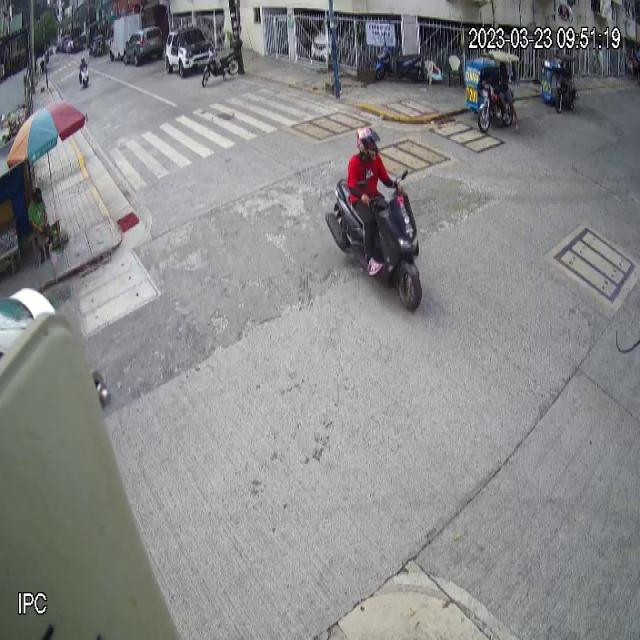Motorcycle: (325, 168, 423, 314)
Tricycle: (464, 51, 520, 133)
